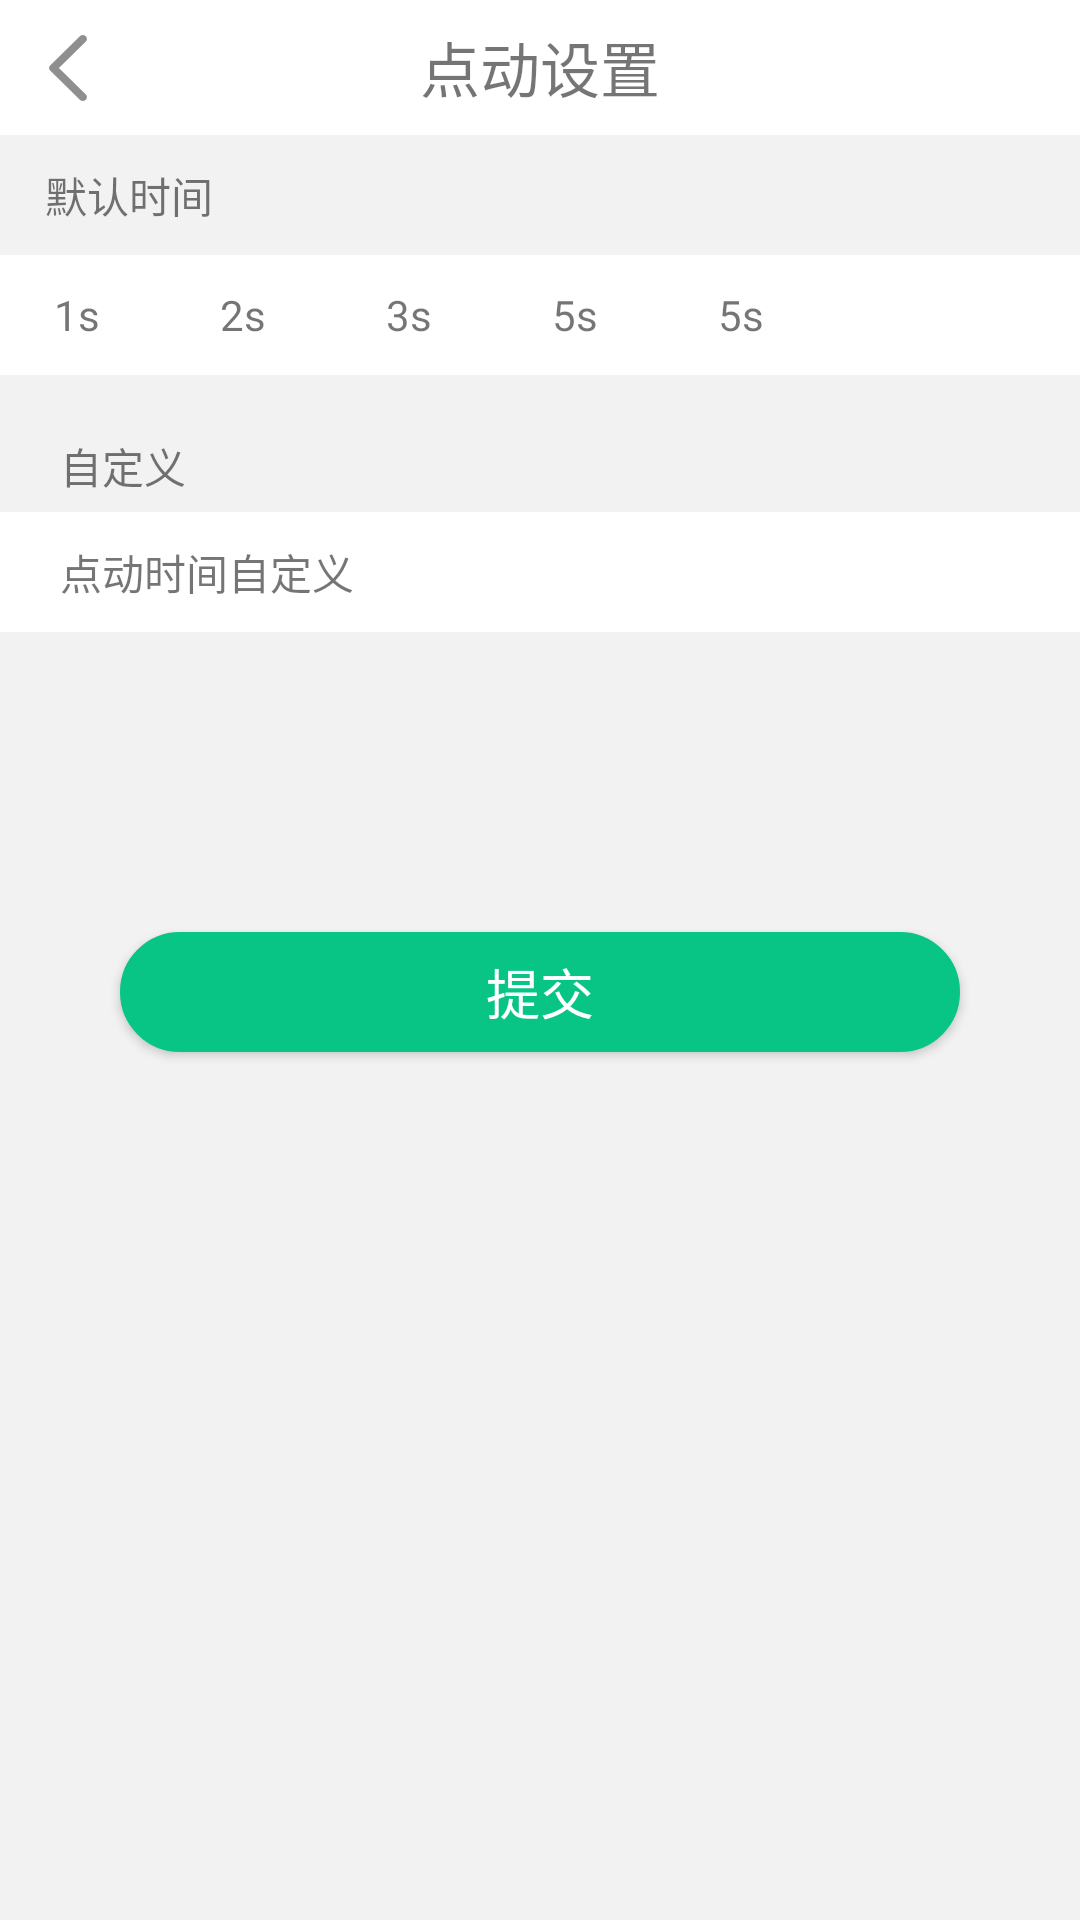

Icons on this 1080px×1920px Android screen, each with its box as box(x1, y1, x2, y2):
back: box(49, 35, 87, 101)
